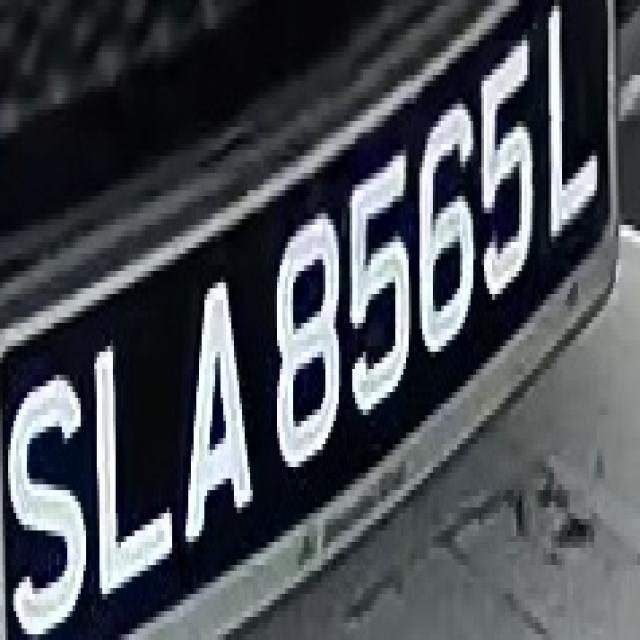5: (336, 144, 422, 421), (468, 46, 546, 300)
6: (414, 110, 481, 369)
8: (271, 208, 347, 484)
A: (172, 259, 258, 571)
L: (86, 300, 178, 594), (540, 6, 610, 242)
S: (8, 346, 89, 623)
